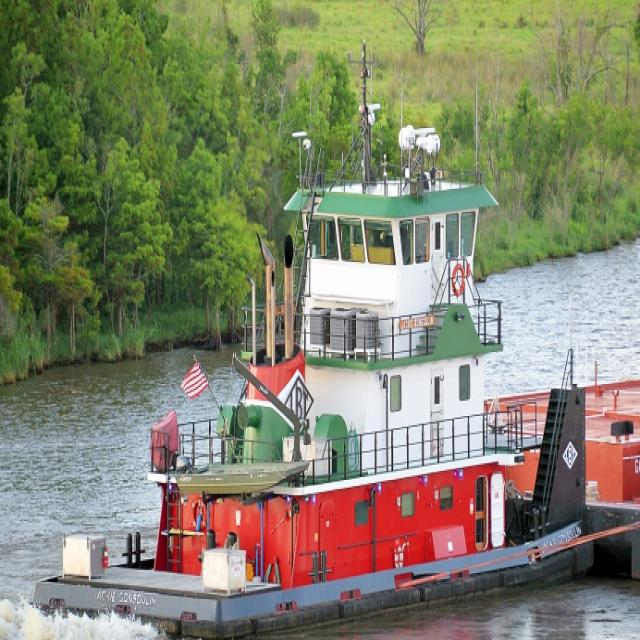tugboat: (21, 98, 601, 640)
